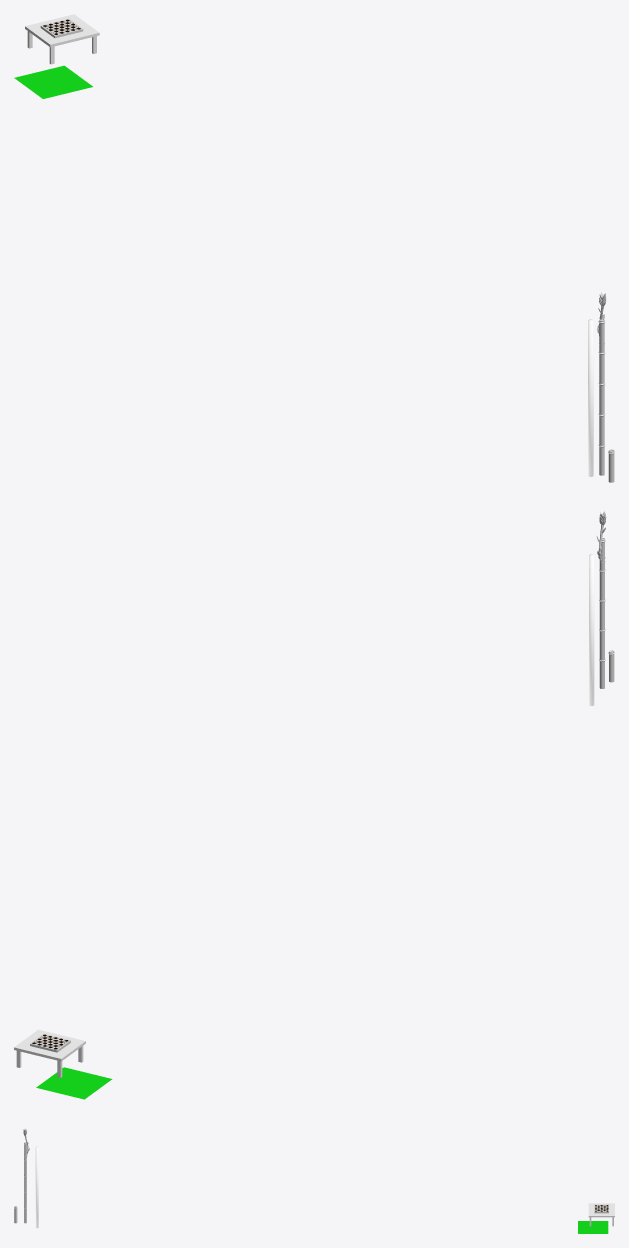
The model's file is background_test.glb.
3 views of the same model, one above another, from view 1: azimuth 30°, elevation 25°; view 2: azimuth 150°, elevation 25°; view 3: azimuth 270°, elevation 25° (orthographic). The views are drawn at different scales.
Visible parts, largest first — view 1: Plane, table, test2, bambook; view 2: Plane, table, test2, bambook; view 3: Plane, table, bambook, test2.
Boxes of the visible parts, x1,y1,x2,y2 form: Plane: (14, 65, 92, 98); table: (25, 14, 99, 64); test2: (597, 292, 606, 475); bambook: (588, 319, 593, 476); Plane: (36, 1067, 112, 1099); table: (14, 1029, 85, 1077); test2: (596, 511, 606, 688); bambook: (589, 554, 594, 705); Plane: (578, 1221, 608, 1233); table: (588, 1203, 614, 1226); bambook: (35, 1146, 38, 1228); test2: (23, 1128, 29, 1223).
Bounding box in the file's own units: 2.65 × 7.23 × 39.86.
